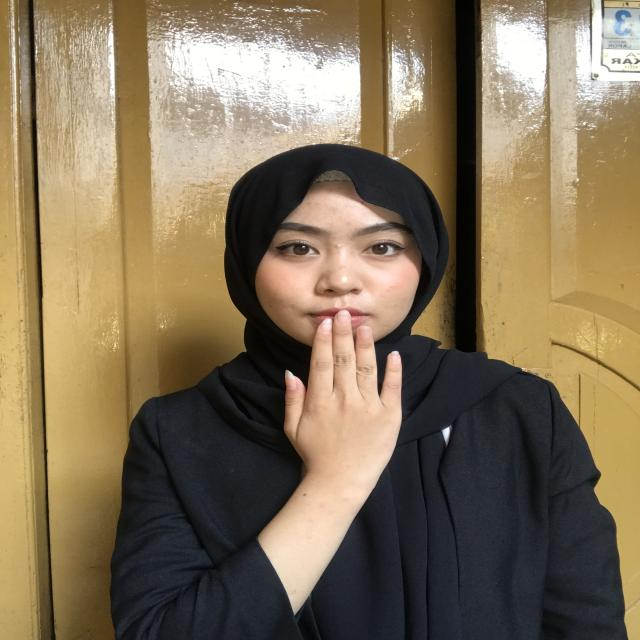ganteng: (251, 307, 417, 489)
